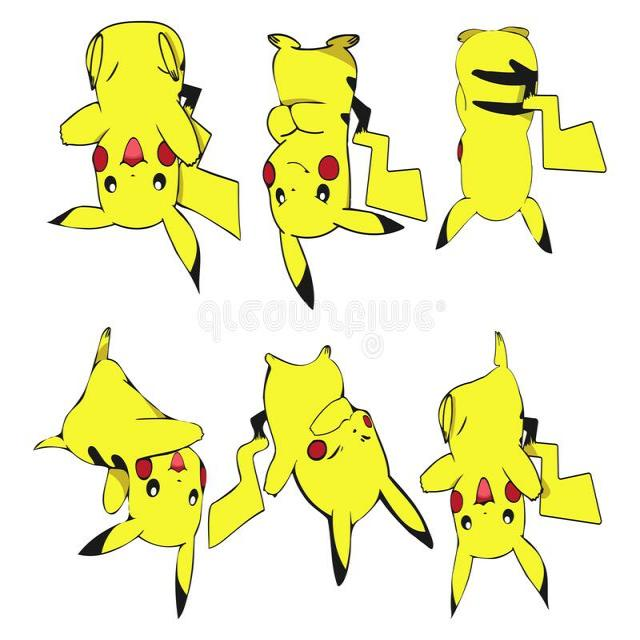Pikachu: (20, 4, 624, 596)
